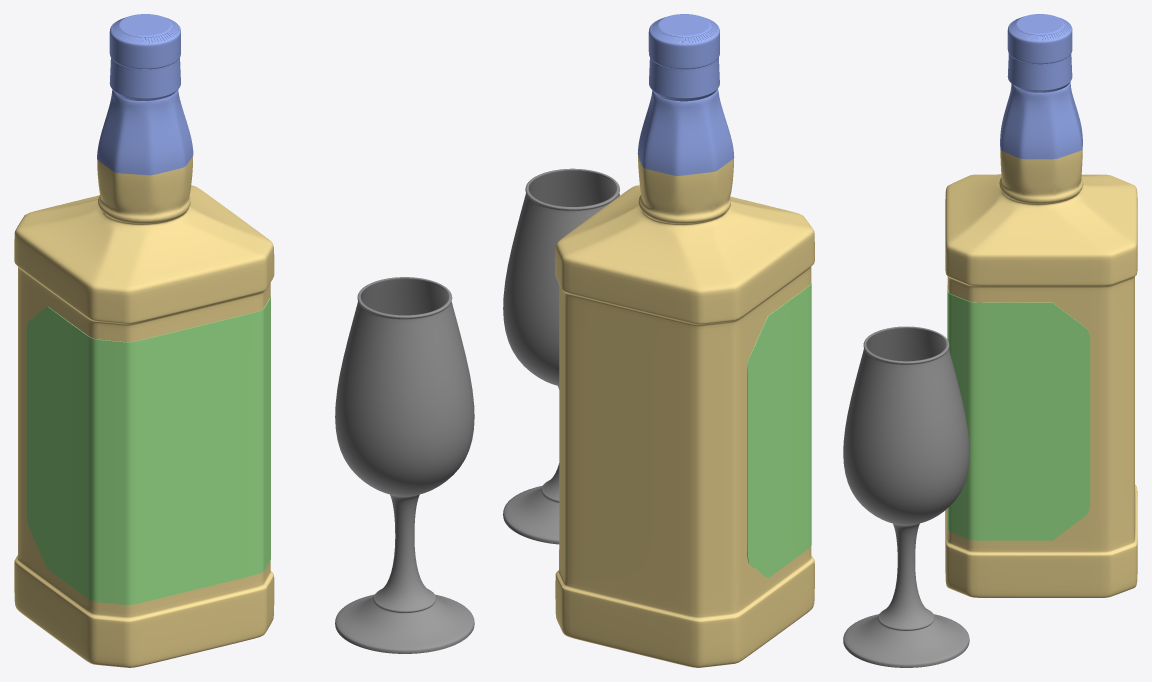
File: 3d jack daniels.fbx
3 renders of one model, left to right at view 1: azimuth 30°, elevation 25°; view 2: azimuth 150°, elevation 25°; view 3: azimuth 270°, elevation 25°, orthographic. The views are drawn at different scales.
Parts seen in each view (by area): view 1: Object003, Box001, Cylinder001, Object002; view 2: Box001, Object003, Cylinder001, Object002; view 3: Box001, Object003, Cylinder001, Object002.
Boxes of the visible parts, x1=… form: Object003: x1=26, y1=296, x2=270, y2=604; Box001: x1=14, y1=39, x2=274, y2=667; Cylinder001: x1=335, y1=277, x2=474, y2=653; Object002: x1=97, y1=14, x2=193, y2=175; Box001: x1=555, y1=41, x2=814, y2=667; Object003: x1=747, y1=282, x2=811, y2=578; Cylinder001: x1=503, y1=168, x2=619, y2=544; Object002: x1=637, y1=14, x2=734, y2=175; Box001: x1=945, y1=38, x2=1137, y2=597; Object003: x1=947, y1=276, x2=1090, y2=540; Cylinder001: x1=843, y1=326, x2=969, y2=667; Object002: x1=1000, y1=14, x2=1082, y2=159.
Size of the model in its own units: 93.94 by 157 by 78.
